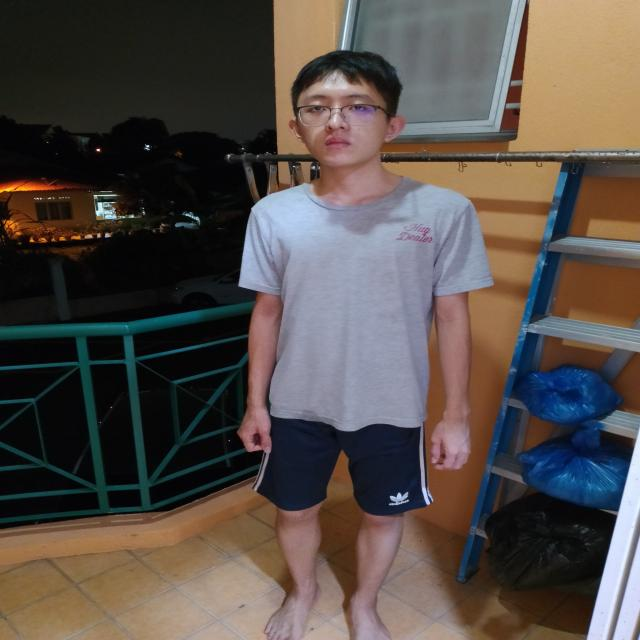person_without_labcoat: (239, 51, 492, 639)
